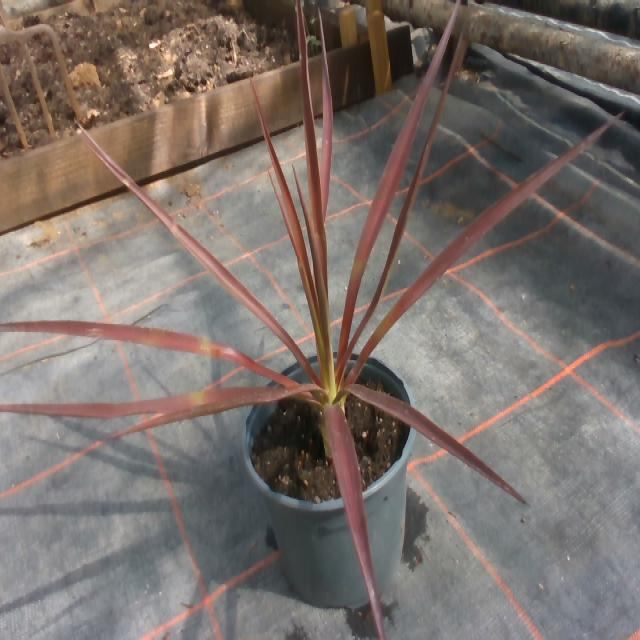Yucca-aloifolia: (348, 113, 621, 381), (81, 128, 317, 380), (339, 0, 459, 353), (351, 44, 461, 349), (0, 396, 257, 496), (346, 384, 526, 503), (0, 321, 285, 382), (324, 404, 386, 639), (254, 89, 316, 304), (296, 0, 325, 297), (0, 388, 261, 417), (320, 16, 332, 216), (267, 383, 310, 401)
